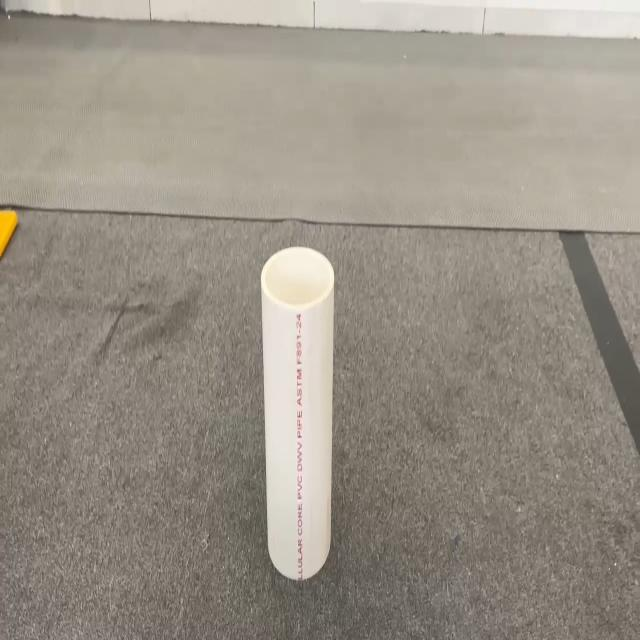coral: (259, 244, 335, 580)
